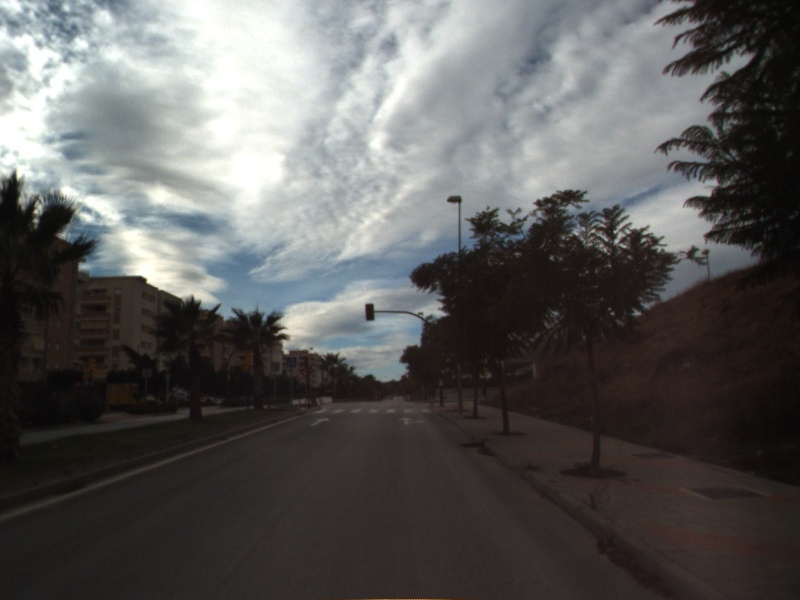STRAIGHT: (308, 415, 332, 428)
STRAIGHT_RIGHT: (396, 414, 428, 427)
